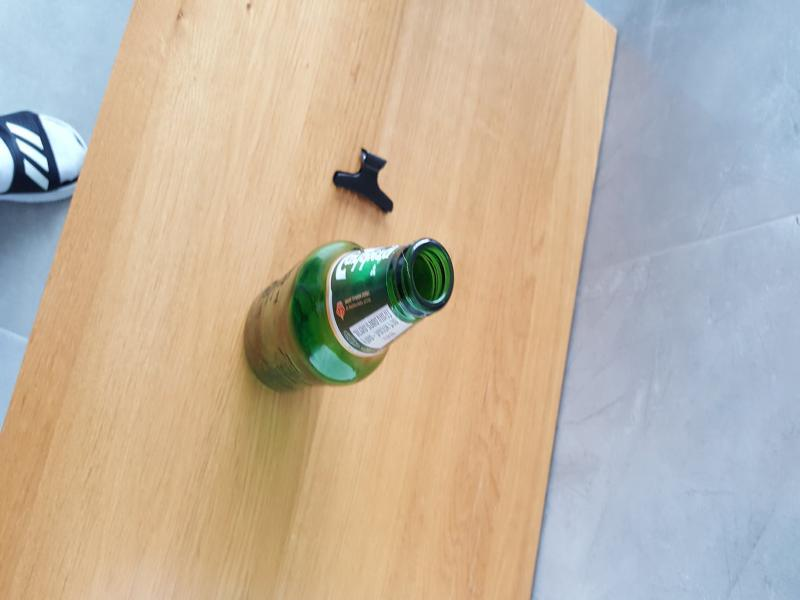Beer: (241, 237, 453, 392)
